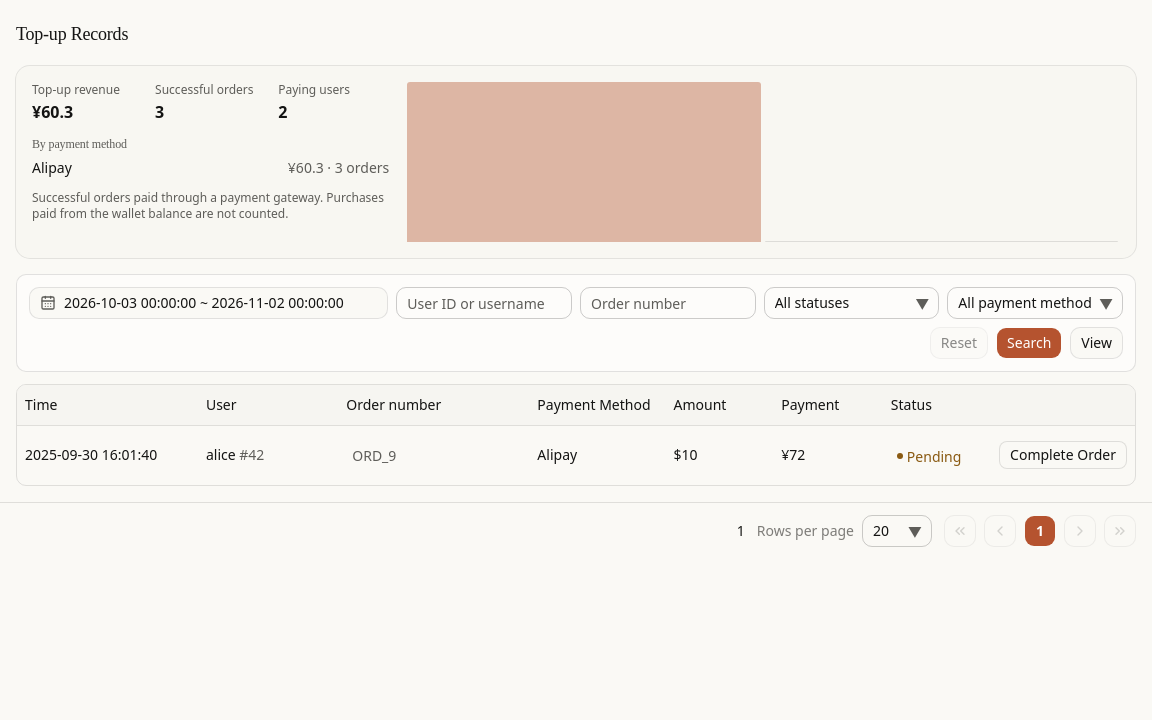
shows a day as soon as the pointer reaches any part of its column
The width and height of the screenshot is (1152, 720).
Hover over the element named "9&#x2F;30: ¥30.3, 2 orders" at (584, 162), box [405,82,763,242]
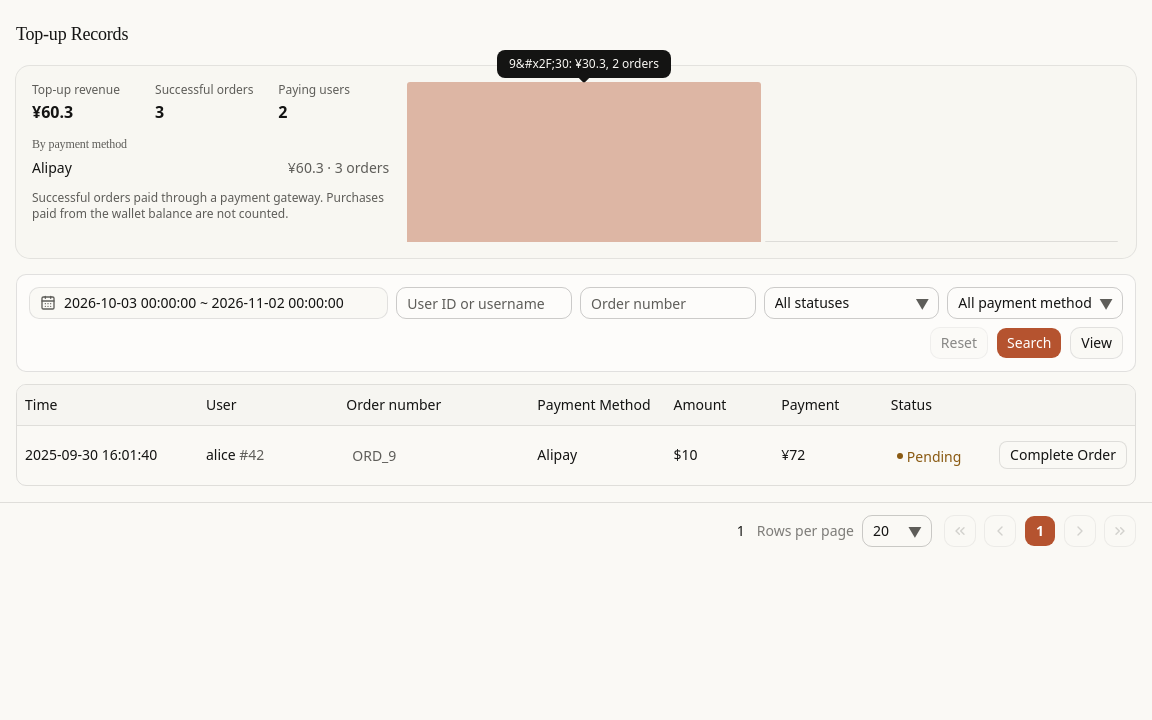
Result: the element showing "9&#x2F;30: ¥30.3, 2 orders" is shown at [497,50,671,78]
